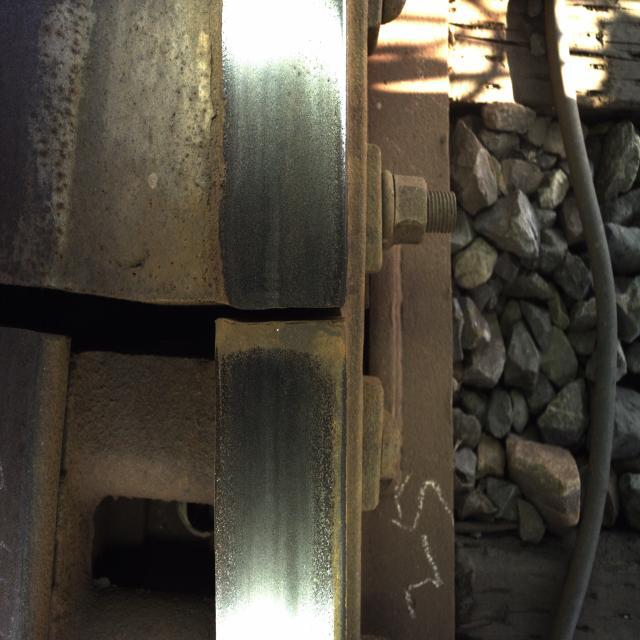spalling: (206, 260, 374, 384)
